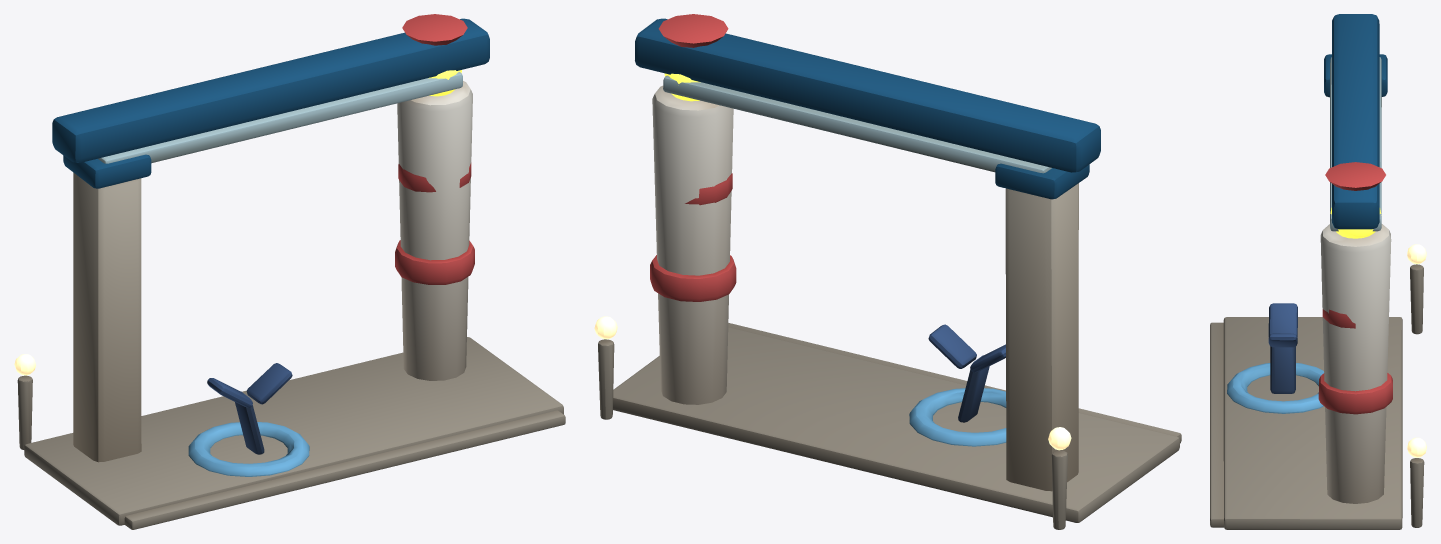
3 renders of one model, left to right at view 1: azimuth 30°, elevation 25°; view 2: azimuth 150°, elevation 25°; view 3: azimuth 270°, elevation 25°, orthographic. The views are drawn at different scales.
Visible parts, largest first — view 1: gate_81bd7e46; view 2: gate_81bd7e46; view 3: gate_81bd7e46.
Boxes of the visible parts, left/top/right/bottom form: gate_81bd7e46: left=14, top=14, right=565, bottom=529; gate_81bd7e46: left=594, top=14, right=1181, bottom=529; gate_81bd7e46: left=1210, top=14, right=1426, bottom=529.
Size of the model in its own units: 5.64 by 4.27 by 2.55.
